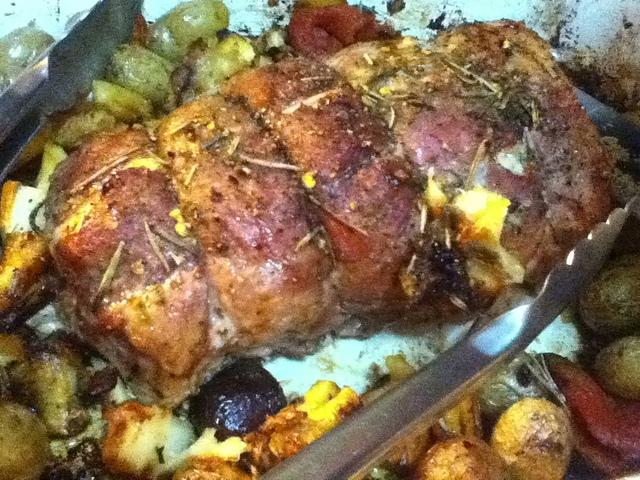potato: (0, 350, 95, 442), (188, 358, 288, 444), (100, 401, 196, 478), (268, 386, 364, 462), (491, 397, 574, 479), (147, 0, 230, 62), (577, 258, 639, 340), (185, 32, 258, 99), (105, 44, 178, 110), (413, 436, 515, 480), (1, 402, 53, 476), (51, 101, 116, 153), (594, 336, 640, 401), (92, 80, 157, 126), (184, 426, 249, 470), (432, 390, 483, 444), (0, 181, 47, 234), (0, 325, 38, 369), (387, 430, 431, 467), (35, 140, 67, 190)
